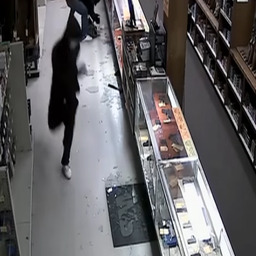person: (47, 21, 83, 180)
